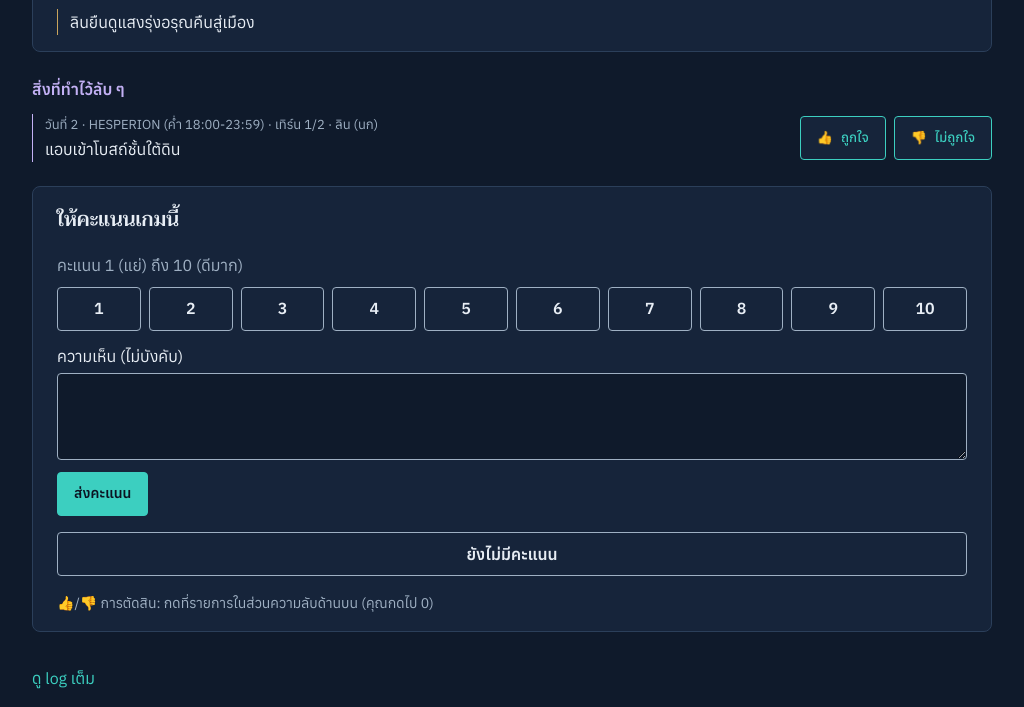
Test: GEN-091 end page › asks for a score before sending, and shows the server message when it refuses
(page scrolled)
Click the button "ส่งคะแนน" at (103, 494), box [57,472,148,516]
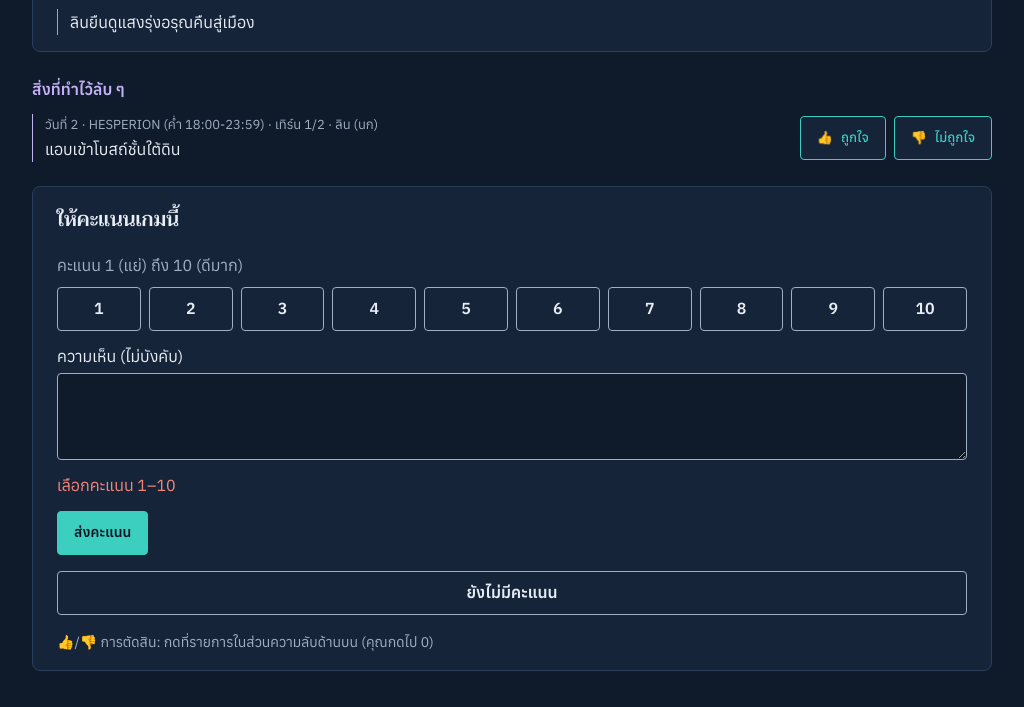
Check: the message "เลือกคะแนน 1–10" is shown, box [57,475,176,495]
